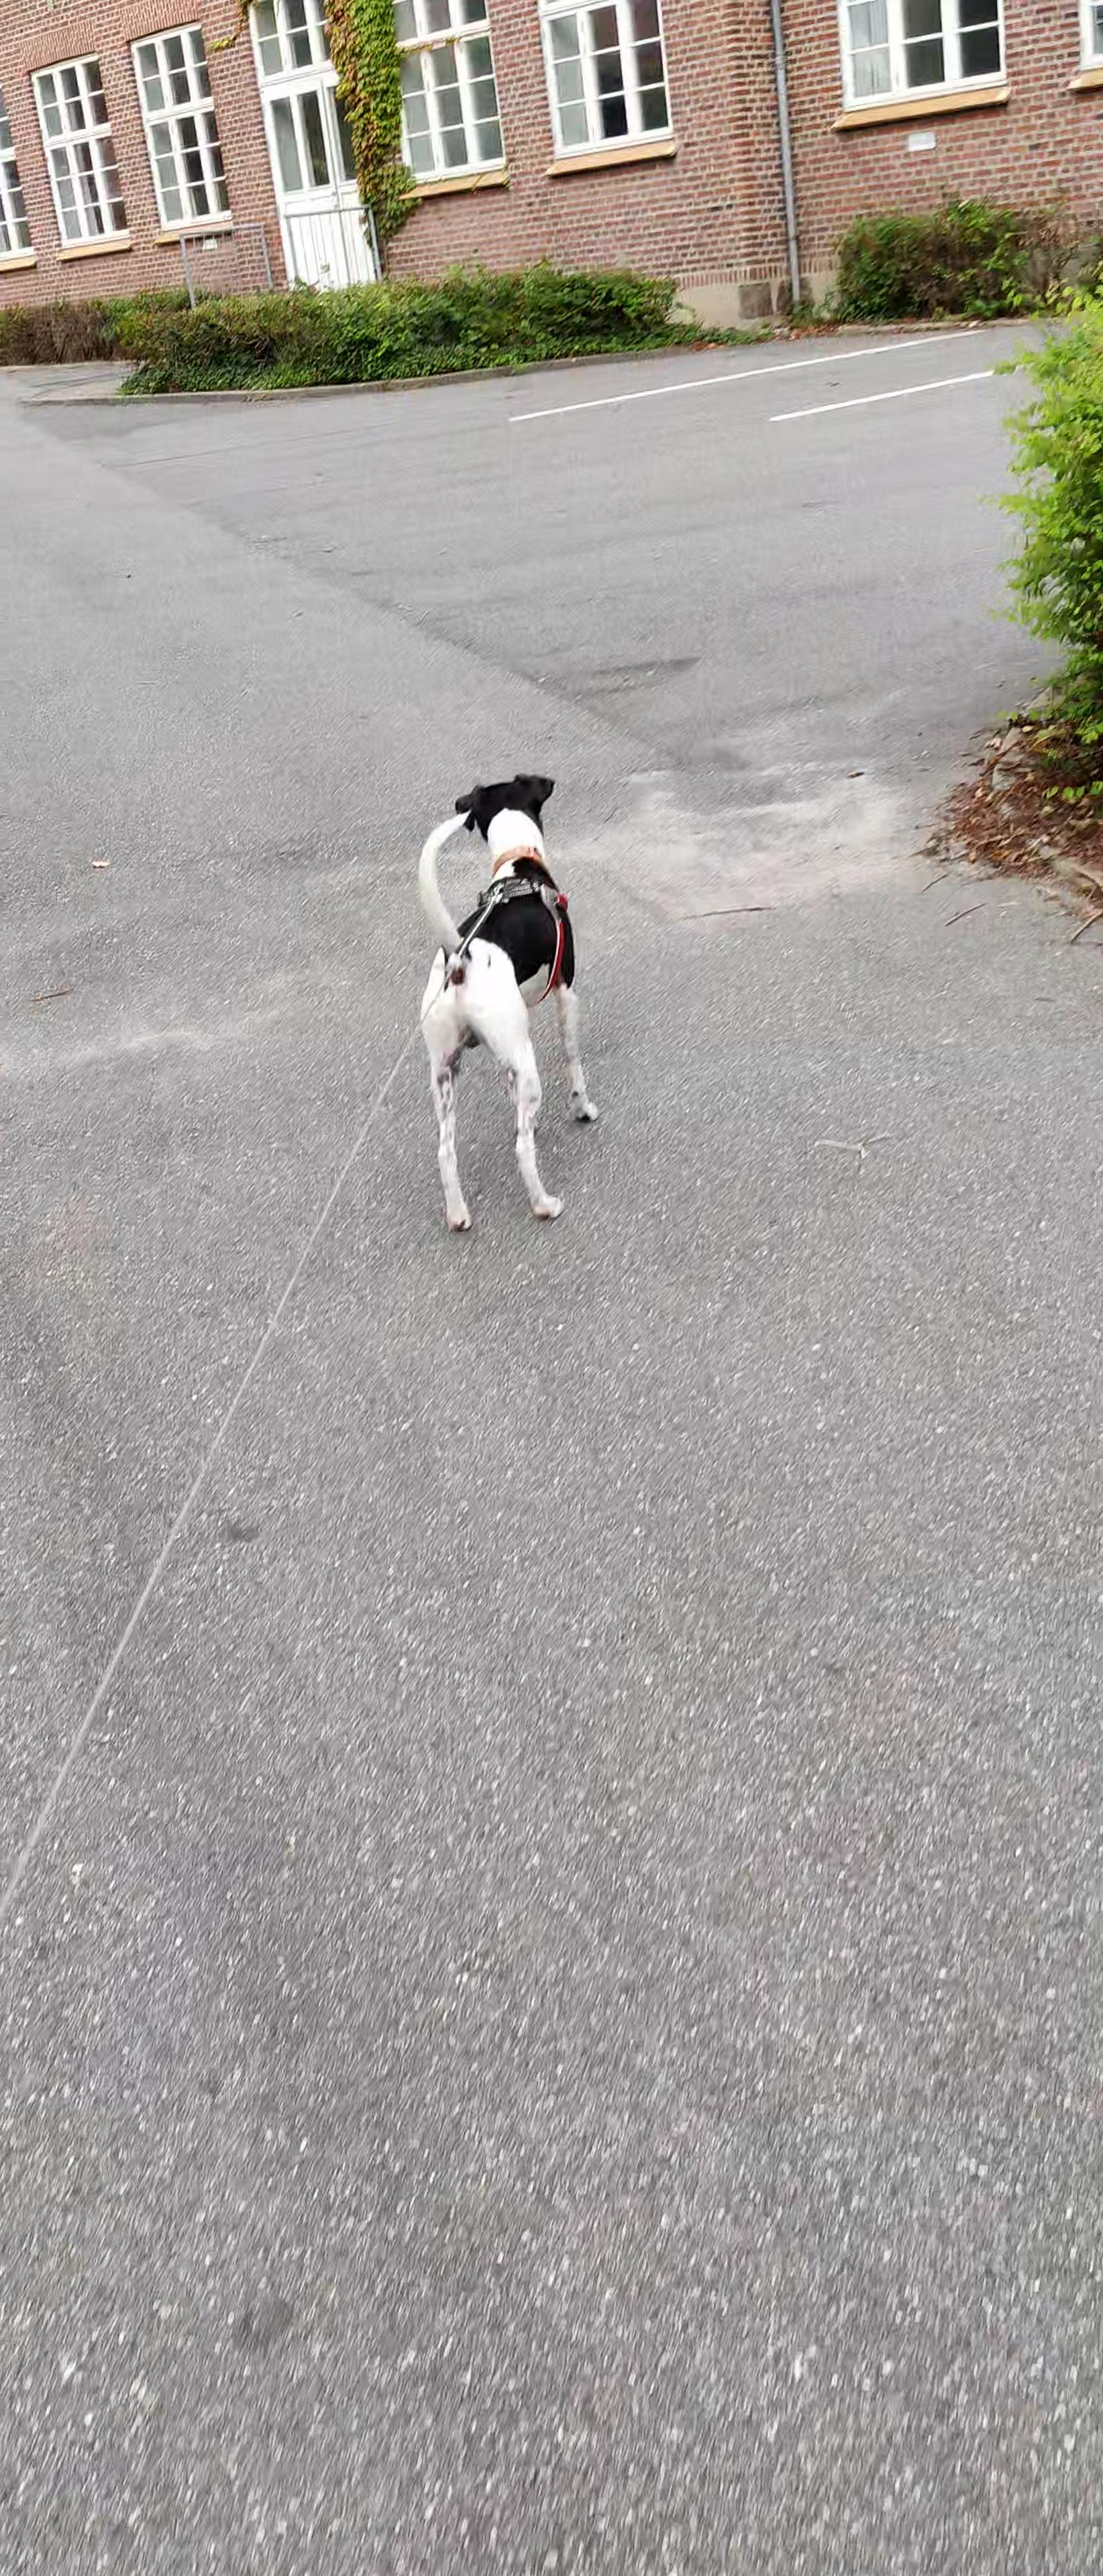Dog: (395, 762, 608, 1245)
